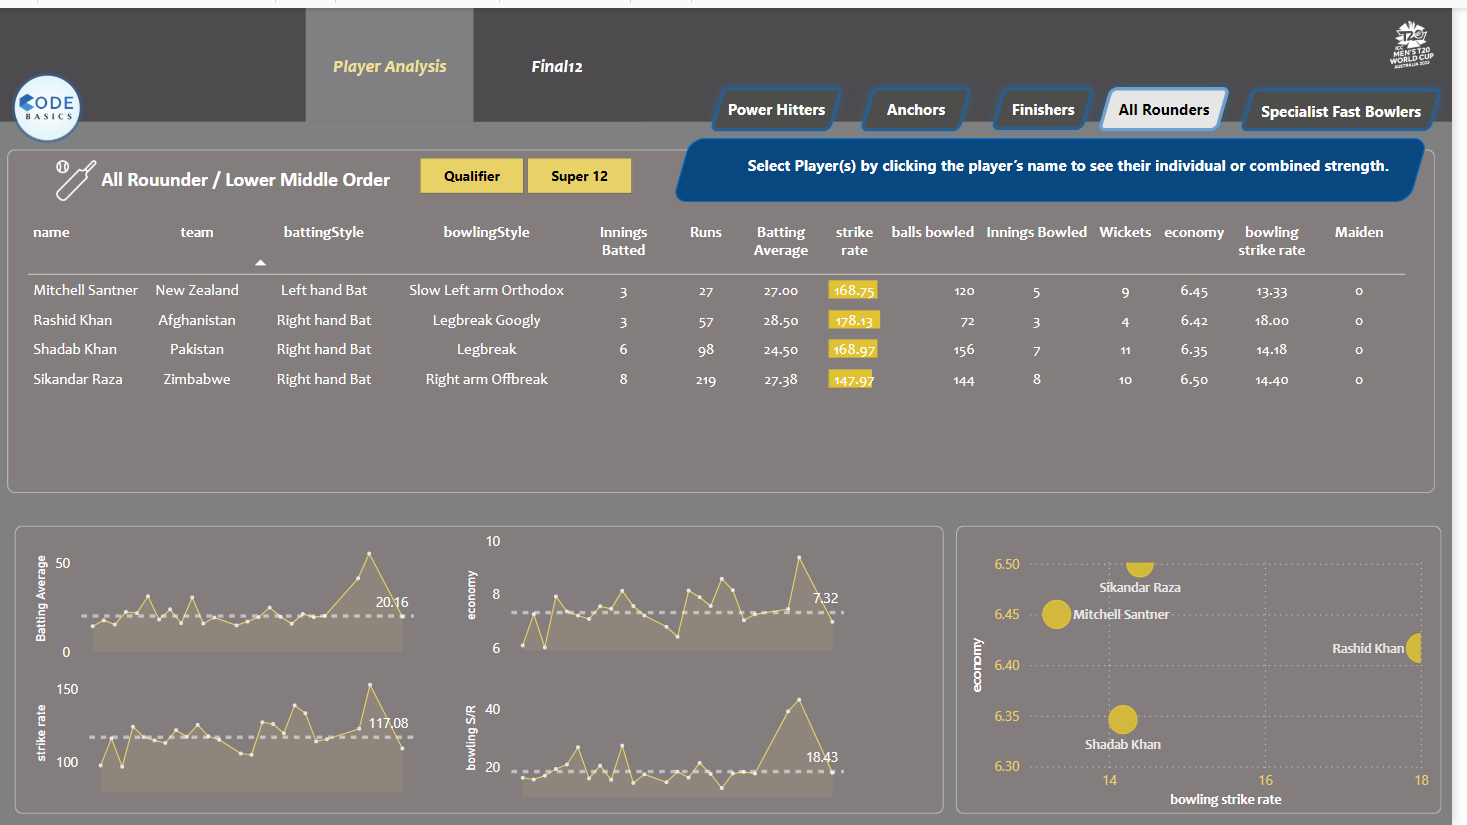

The page's visual inventory and layout, read from the dashboard file:
{"tool":"powerbi","page":{"name":"All Rounder/ Low","canvas":[700,720],"ordinal":7},"visuals":[{"type":"shape","box":[73,442.7,260,32],"z":0,"group":"g1"},{"type":"shape","box":[7.5,428.8,682.5,280],"z":0},{"type":"shape","box":[7.5,171.2,682.5,248.8],"z":1000},{"type":"shape","box":[7.5,0,682.5,160],"z":2000},{"type":"shape","box":[95,135,457.5,57.5],"z":3000},{"type":"card","fields":{"Values":["key measures.Batting Average"]},"box":[128.1,126.8,94,64.3],"z":4000},{"type":"card","fields":{"Values":["key measures.bowling strike rate"]},"box":[400.8,126.8,95.2,64.3],"z":5000},{"type":"card","fields":{"Values":["key measures.strike rate"]},"box":[306.7,126.8,94,66.7],"z":6000},{"type":"card","fields":{"Values":["key measures.economy"]},"box":[212.7,126.8,94,64.3],"z":7000},{"type":"shape","box":[7.5,248.8,97.5,57.5],"z":8000},{"type":"shape","box":[7.5,346.2,97.5,57.5],"z":9000},{"type":"shape","box":[7.5,617.5,97.5,57.5],"z":10000},{"type":"shape","box":[7.5,511.2,97.5,57.5],"z":11000},{"type":"pivotTable","fields":{"Values":["key measures.Batting Average"],"Columns":["dim_match_summary.Match"]},"box":[105,248.8,576.2,72.5],"z":12000},{"type":"pivotTable","fields":{"Values":["key measures.strike rate"],"Columns":["dim_match_summary.Match"]},"box":[105,331.2,576.2,72.5],"z":13000},{"type":"pivotTable","fields":{"Columns":["dim_match_summary.Match"],"Values":["key measures.bowling strike rate"]},"box":[105,603.8,576.2,83.8],"z":14000},{"type":"pivotTable","fields":{"Columns":["dim_match_summary.Match"],"Values":["key measures.economy"]},"box":[105,498.8,576.2,83.8],"z":15000},{"type":"tableEx","fields":{"Values":["dim_players.image"]},"box":[136.2,3.8,153.8,131.2],"z":16000},{"type":"shape","box":[321.2,3.8,162.5,32.5],"z":17000},{"type":"shape","box":[321.2,62.5,162.5,32.5],"z":18000},{"type":"shape","box":[321.2,93.8,106.2,32.5],"z":19000},{"type":"shape","box":[300,62.5,21.2,66.2],"z":20000},{"type":"image","box":[291.2,0,38.8,31.2],"z":21000},{"type":"group","id":"g1","title":"Group 2","box":[73,442.7,260,32],"z":22000},{"type":"image","box":[21,440,43.8,36.2],"z":23000},{"type":"textbox","box":[72.5,192.5,248.8,38.8],"z":24000},{"type":"image","box":[28.8,190,43.8,36.2],"z":25000}]}

Visuals, with their boxes on the page's 700x720 design canvas (x1, y1, x2, y2). These are canvas units, not pixel positions in the 1467x825 screenshot, which may show the page scaled, cropped or inside an application window:
shape: bbox=(73, 443, 333, 475)
shape: bbox=(8, 429, 690, 709)
shape: bbox=(8, 171, 690, 420)
shape: bbox=(8, 0, 690, 160)
shape: bbox=(95, 135, 552, 192)
card - key measures.Batting Average: bbox=(128, 127, 222, 191)
card - key measures.bowling strike rate: bbox=(401, 127, 496, 191)
card - key measures.strike rate: bbox=(307, 127, 401, 194)
card - key measures.economy: bbox=(213, 127, 307, 191)
shape: bbox=(8, 249, 105, 306)
shape: bbox=(8, 346, 105, 404)
shape: bbox=(8, 618, 105, 675)
shape: bbox=(8, 511, 105, 569)
pivotTable - key measures.Batting Average x dim_match_summary.Match: bbox=(105, 249, 681, 321)
pivotTable - key measures.strike rate x dim_match_summary.Match: bbox=(105, 331, 681, 404)
pivotTable - dim_match_summary.Match x key measures.bowling strike rate: bbox=(105, 604, 681, 688)
pivotTable - dim_match_summary.Match x key measures.economy: bbox=(105, 499, 681, 583)
tableEx - dim_players.image: bbox=(136, 4, 290, 135)
shape: bbox=(321, 4, 484, 36)
shape: bbox=(321, 62, 484, 95)
shape: bbox=(321, 94, 427, 126)
shape: bbox=(300, 62, 321, 129)
image: bbox=(291, 0, 330, 31)
"Group 2" group: bbox=(73, 443, 333, 475)
image: bbox=(21, 440, 65, 476)
textbox: bbox=(72, 192, 321, 231)
image: bbox=(29, 190, 73, 226)
